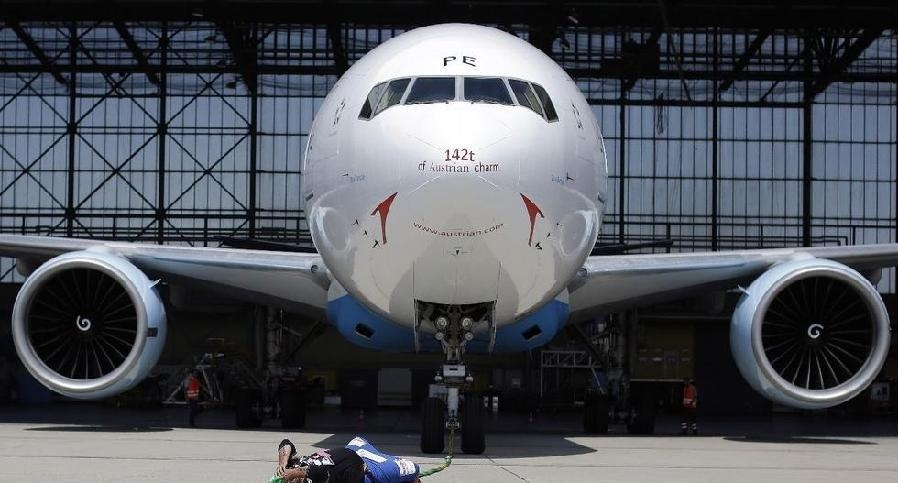airplane: (12, 25, 894, 443)
